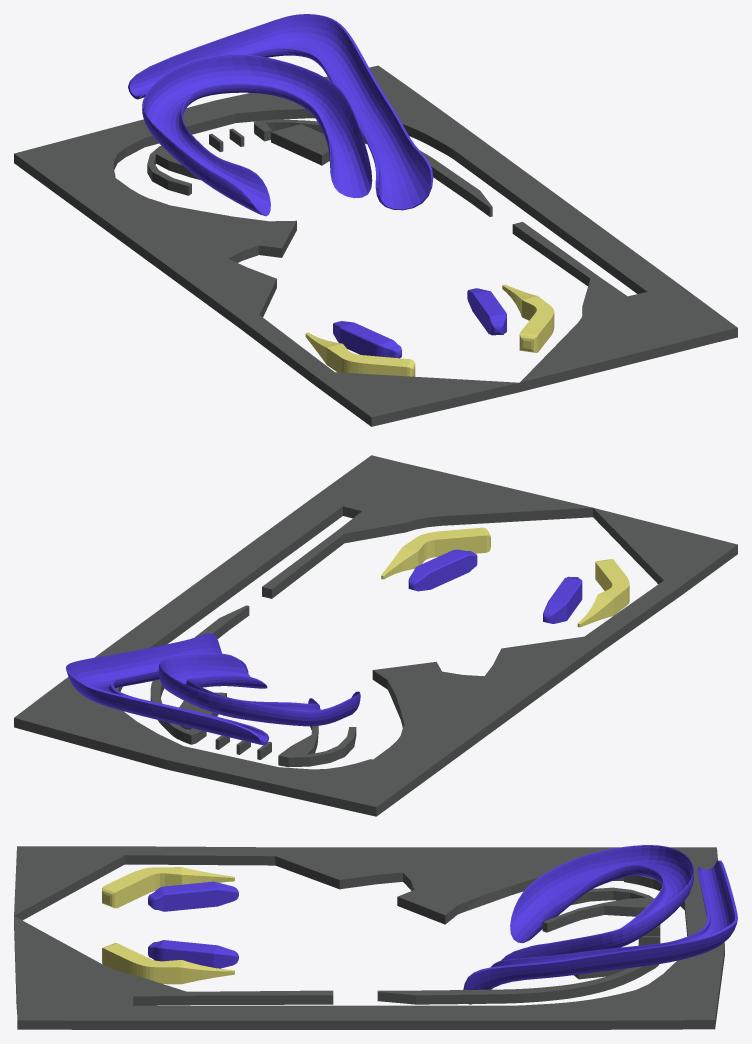
File: Playfield (4).fbx
The picture shows the model from 3 angles, top to bottom: view 1: azimuth 30°, elevation 25°; view 2: azimuth 150°, elevation 25°; view 3: azimuth 270°, elevation 25°; orthographic projection. The views are drawn at different scales.
Parts seen in each view (by area): view 1: Field boundary, Ramp middle, Ramp right, Left blocker, Left bumper; view 2: Field boundary, Ramp right, Ramp middle, Left blocker, Left bumper; view 3: Field boundary, Ramp middle, Ramp right, Left blocker, Left bumper.
Boxes of the visible parts, x1,y1,x2,y2 form: Field boundary: (14, 65, 737, 426); Ramp middle: (142, 54, 372, 216); Ramp right: (128, 14, 433, 210); Left blocker: (305, 284, 554, 376); Left bumper: (333, 288, 506, 358); Field boundary: (14, 455, 737, 816); Ramp right: (66, 633, 268, 745); Ramp middle: (158, 653, 360, 726); Left blocker: (381, 527, 629, 627); Left bumper: (408, 549, 582, 623); Field boundary: (14, 846, 724, 1029); Ramp middle: (501, 845, 693, 960); Ramp right: (463, 860, 737, 1004); Left blocker: (102, 867, 234, 984); Left bumper: (148, 881, 238, 968).
Size of the model in its own units: 550 by 134 by 964.
